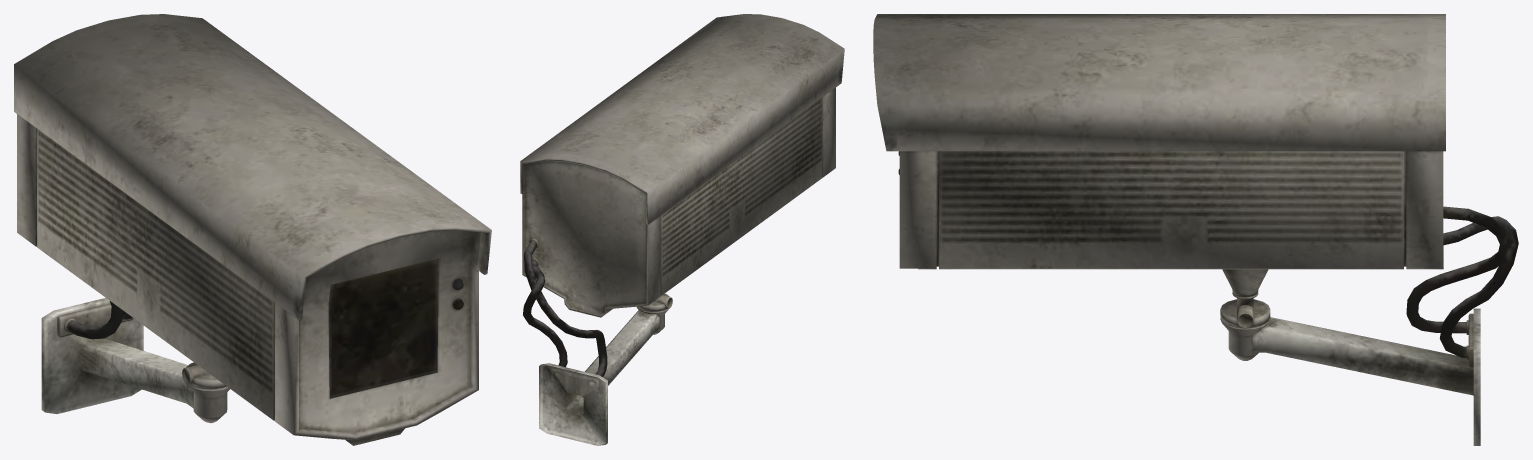
File: cctv_box.glb
3 renders of one model, left to right at view 1: azimuth 30°, elevation 25°; view 2: azimuth 150°, elevation 25°; view 3: azimuth 270°, elevation 25°, orthographic. The views are drawn at different scales.
Parts seen in each view (by area): view 1: defaultMaterial.001, defaultMaterial; view 2: defaultMaterial.001, defaultMaterial; view 3: defaultMaterial.001, defaultMaterial.
Boxes of the visible parts, box(x1,y1,x2,y2) form: defaultMaterial.001: box(14, 14, 491, 445); defaultMaterial: box(66, 258, 463, 398); defaultMaterial.001: box(520, 14, 844, 445); defaultMaterial: box(523, 240, 607, 376); defaultMaterial.001: box(873, 14, 1480, 445); defaultMaterial: box(898, 151, 1518, 358).
Bounding box in the file's own units: 0.1392 × 0.2785 × 0.42.
2 materials, 2 textured.
